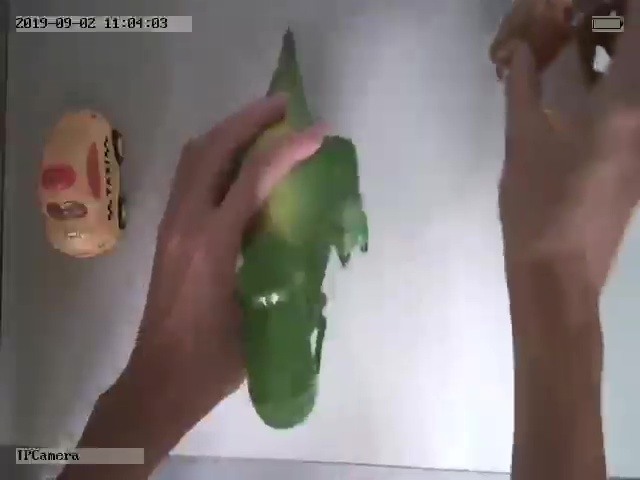car: (38, 104, 130, 259)
